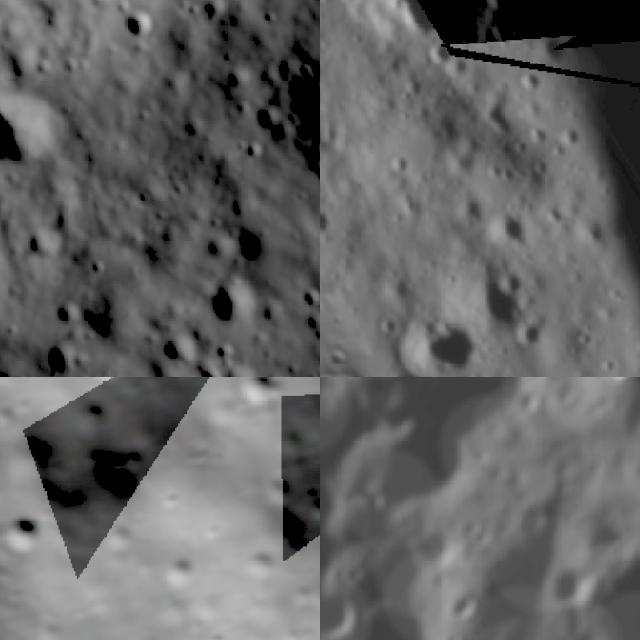crater: (359, 424, 483, 522), (0, 55, 84, 191), (320, 0, 503, 60), (373, 377, 550, 439), (450, 248, 552, 350), (385, 297, 496, 377), (573, 533, 640, 640), (194, 268, 266, 339), (478, 201, 538, 260), (0, 496, 50, 565), (223, 377, 294, 422), (472, 90, 526, 148), (541, 112, 598, 166), (109, 0, 161, 50), (320, 584, 362, 640), (448, 190, 494, 236), (508, 314, 554, 358), (243, 94, 288, 138), (554, 560, 592, 610), (488, 261, 532, 304), (507, 64, 549, 106), (376, 143, 418, 185), (36, 338, 80, 377), (234, 131, 274, 171), (44, 293, 84, 333), (288, 275, 320, 318), (539, 197, 574, 233), (443, 590, 480, 624), (373, 311, 407, 345), (522, 123, 552, 156), (320, 202, 341, 245), (590, 350, 622, 377), (79, 377, 134, 392), (382, 368, 407, 377)
